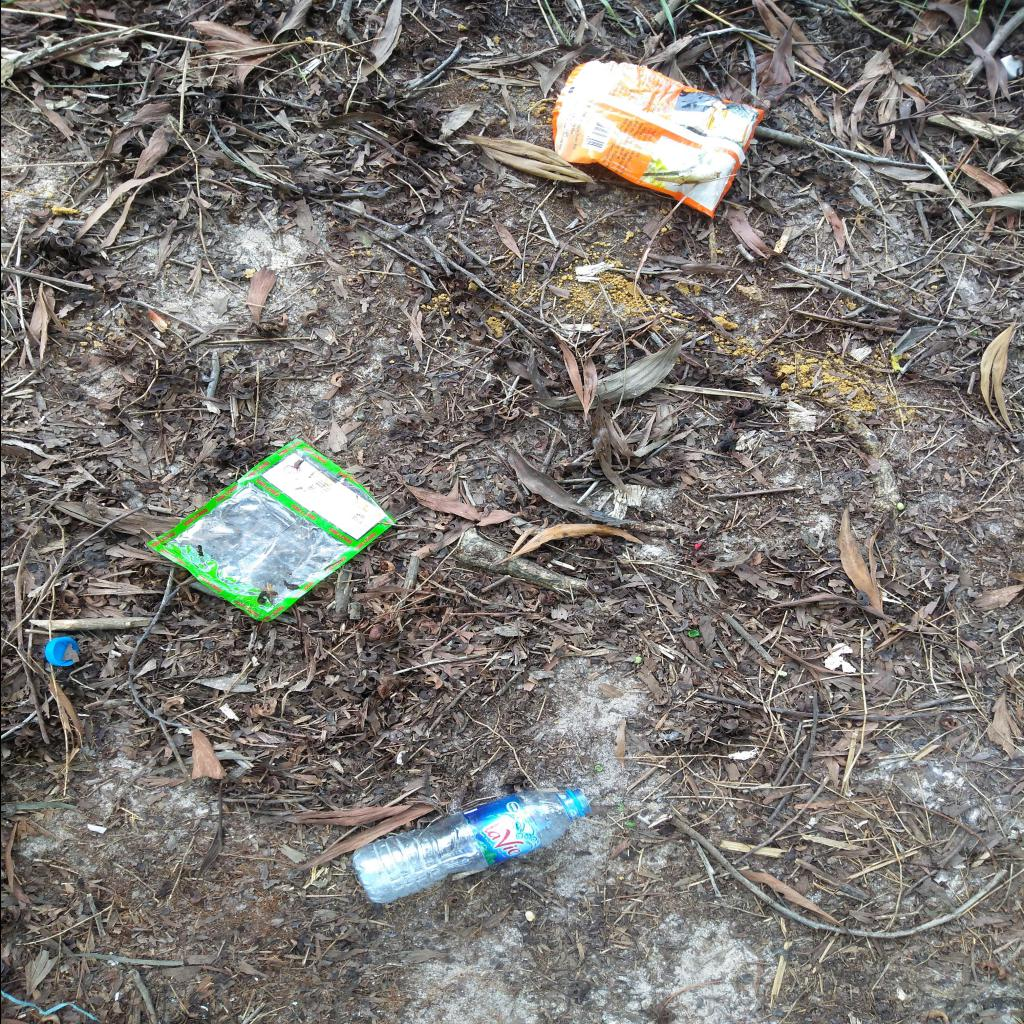Clear plastic bottle: (350, 789, 590, 903)
Other plastic: (144, 438, 396, 623), (550, 60, 762, 217)
Plastic bottle cap: (44, 636, 78, 666), (1000, 55, 1022, 80)
Unlabeled litter: (2, 992, 99, 1020)
